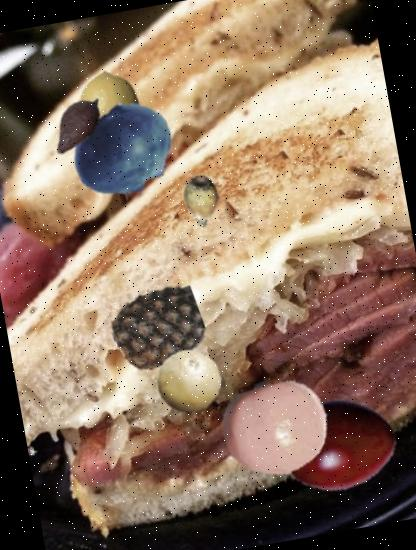Cactus: (170, 170, 235, 234)
Clementine: (212, 364, 338, 490)
Grapefruit: (148, 341, 226, 420)
Huckleberry: (64, 92, 184, 212)
Lemon: (66, 64, 156, 154)
Pineapple: (106, 276, 210, 380)
Salak: (36, 84, 118, 165)
Tamarillo: (260, 374, 404, 518)
